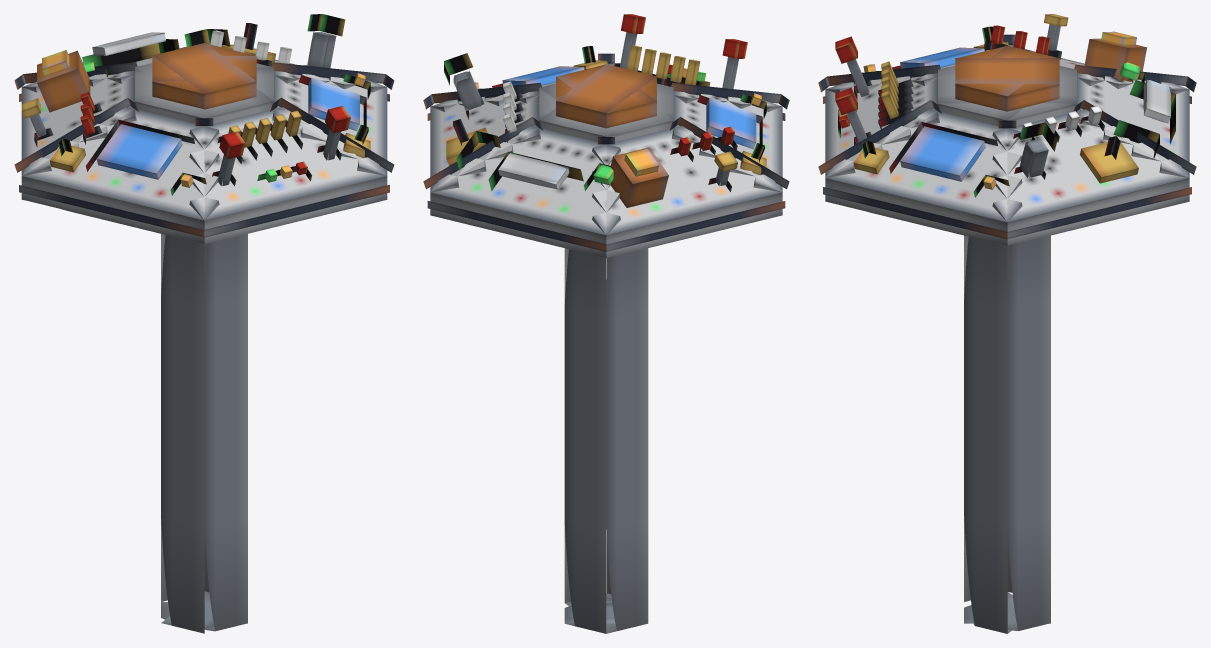
Rendered from console.obj.
3 renders of one model, left to right at view 1: azimuth 30°, elevation 25°; view 2: azimuth 150°, elevation 25°; view 3: azimuth 270°, elevation 25°, orthographic. The views are drawn at different scales.
Size of the model in its own units: 3.08 by 4.39 by 2.73.
1 material, 1 textured.
